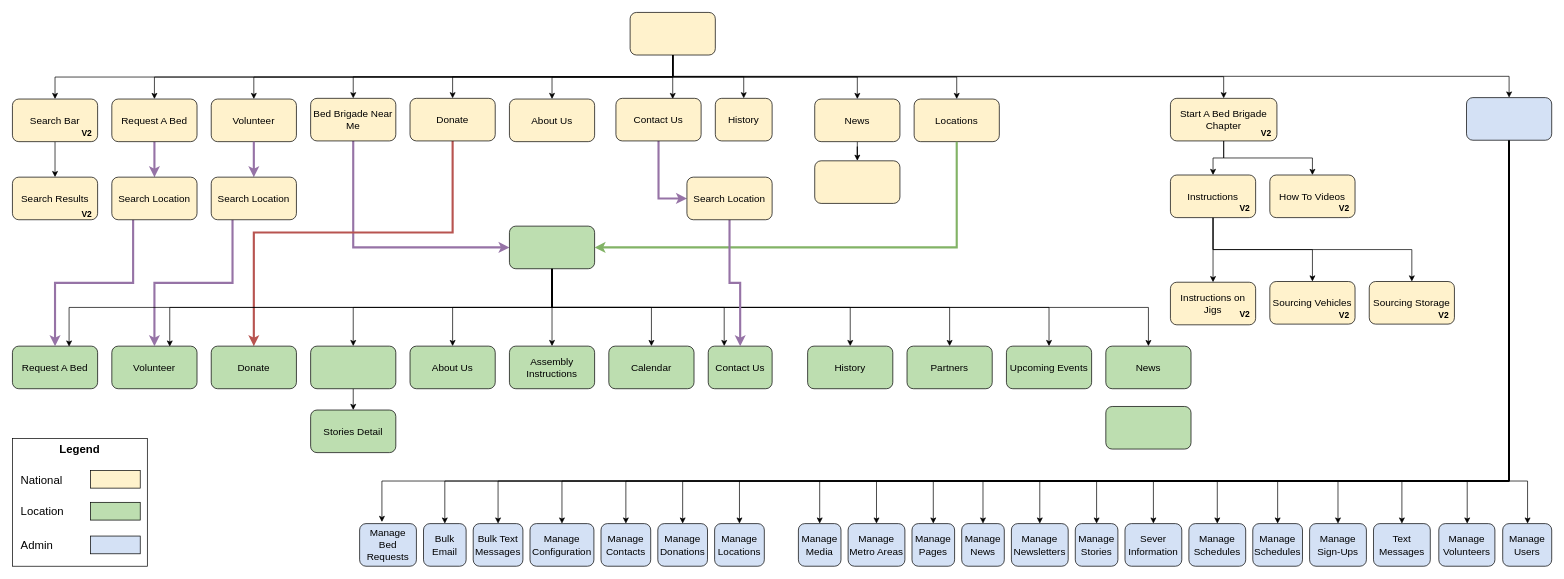
The diagram is 1564 pixels wide and 579 high, and some of its shapes have lost their labels. Each missing label, with the centre of its shape:
"Administration Dashboard" belongs at [1509,118].
"Home" belongs at [672,33].
"Location Home Page" belongs at [552,247].
"New Detail" belongs at [1148,427].
"News Detail" belongs at [857,181].
"Stories" belongs at [353,367].
